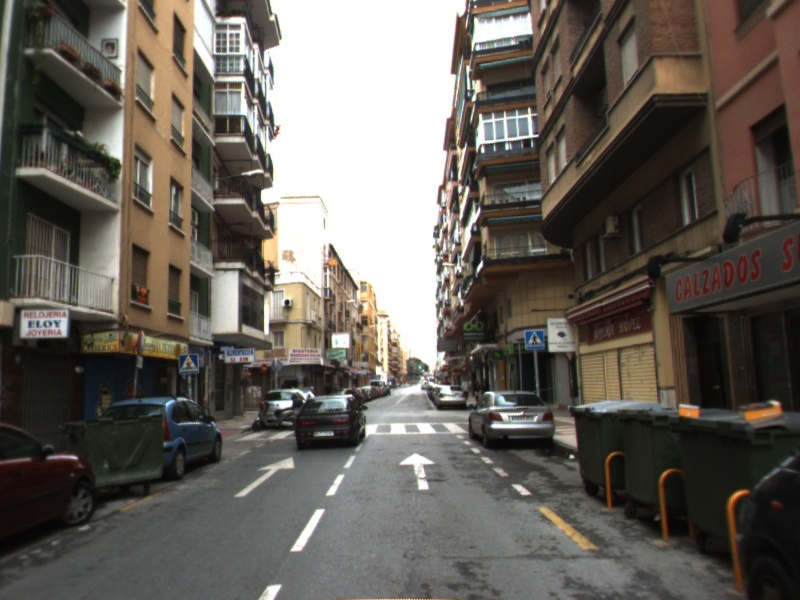STRAIGHT: (232, 455, 297, 499), (396, 450, 439, 491)
